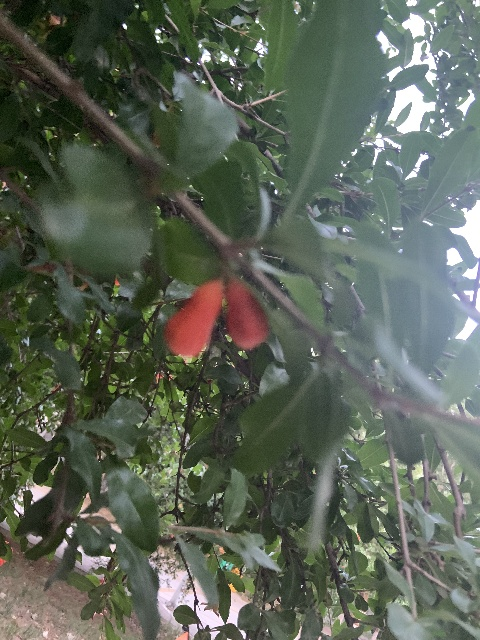bud: (164, 279, 223, 359), (224, 278, 268, 351)
